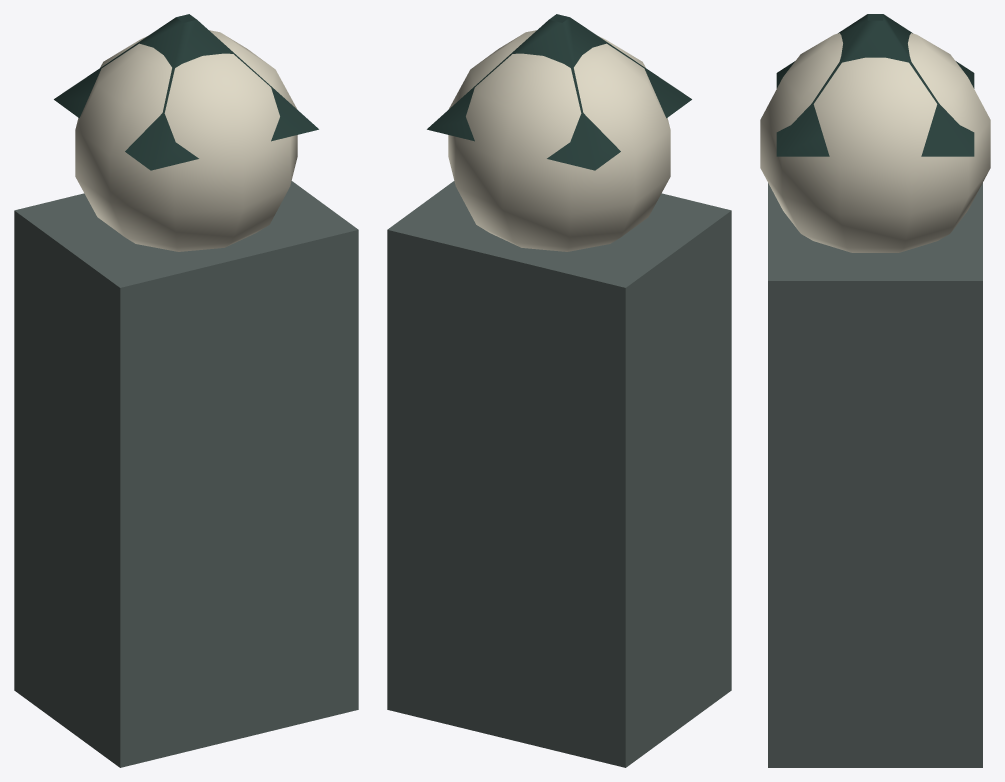
Rendered from pu_tong.glb.
3 views of the same model, side by side, from view 1: azimuth 30°, elevation 25°; view 2: azimuth 150°, elevation 25°; view 3: azimuth 270°, elevation 25° (orthographic).
Visible parts, largest first — view 1: _MeshInstance3D_3, _MeshInstance3D_4, _MeshInstance3D_5; view 2: _MeshInstance3D_3, _MeshInstance3D_4, _MeshInstance3D_5; view 3: _MeshInstance3D_3, _MeshInstance3D_4, _MeshInstance3D_5.
Part boxes in pixels (box(x1,y1,x2,y2)): _MeshInstance3D_3: box(14, 181, 358, 767); _MeshInstance3D_4: box(75, 30, 297, 251); _MeshInstance3D_5: box(54, 14, 318, 170); _MeshInstance3D_3: box(387, 181, 731, 767); _MeshInstance3D_4: box(448, 30, 670, 251); _MeshInstance3D_5: box(427, 14, 691, 170); _MeshInstance3D_3: box(768, 183, 982, 767); _MeshInstance3D_4: box(760, 33, 990, 252); _MeshInstance3D_5: box(776, 14, 974, 156).
Bounding box in the file's own units: 0.26 × 0.71 × 0.2145.
